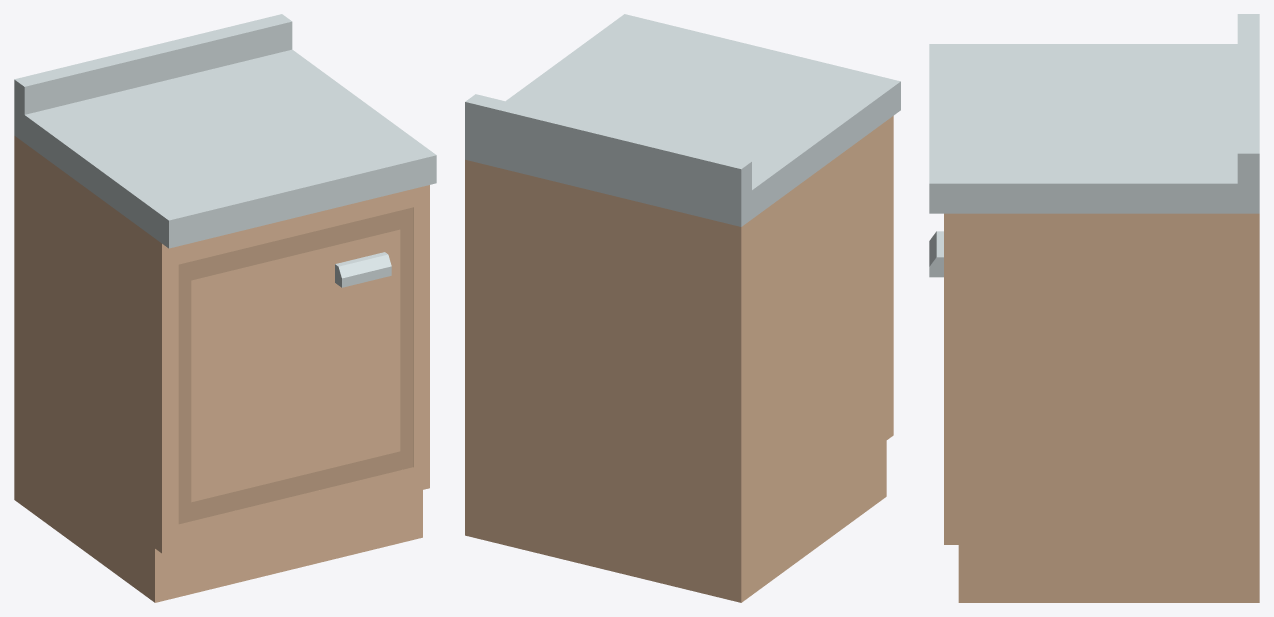
File: kenney_kitchenCabinet.glb
3 views of the same model, side by side, from view 1: azimuth 30°, elevation 25°; view 2: azimuth 150°, elevation 25°; view 3: azimuth 270°, elevation 25° (orthographic). The views are drawn at different scales.
Visible parts, largest first — view 1: Mesh kitchenCabinet, door; view 2: Mesh kitchenCabinet; view 3: Mesh kitchenCabinet, door.
Boxes of the visible parts, x1,y1,x2,y2 form: Mesh kitchenCabinet: (14,14,436,602); door: (178,207,412,524); Mesh kitchenCabinet: (465,14,900,602); Mesh kitchenCabinet: (929,14,1259,602); door: (929,231,943,277).
Bounding box in the file's own units: 0.6 × 0.9 × 0.6.
